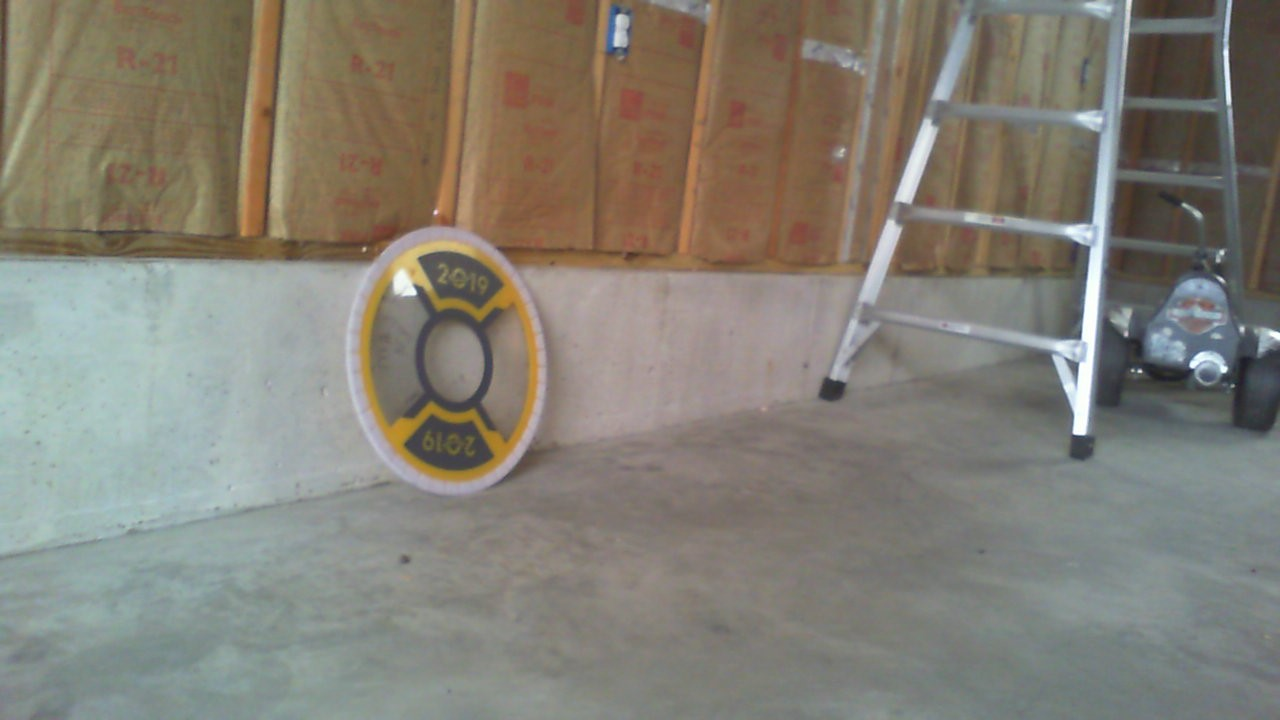Hatch: (345, 225, 546, 495)
